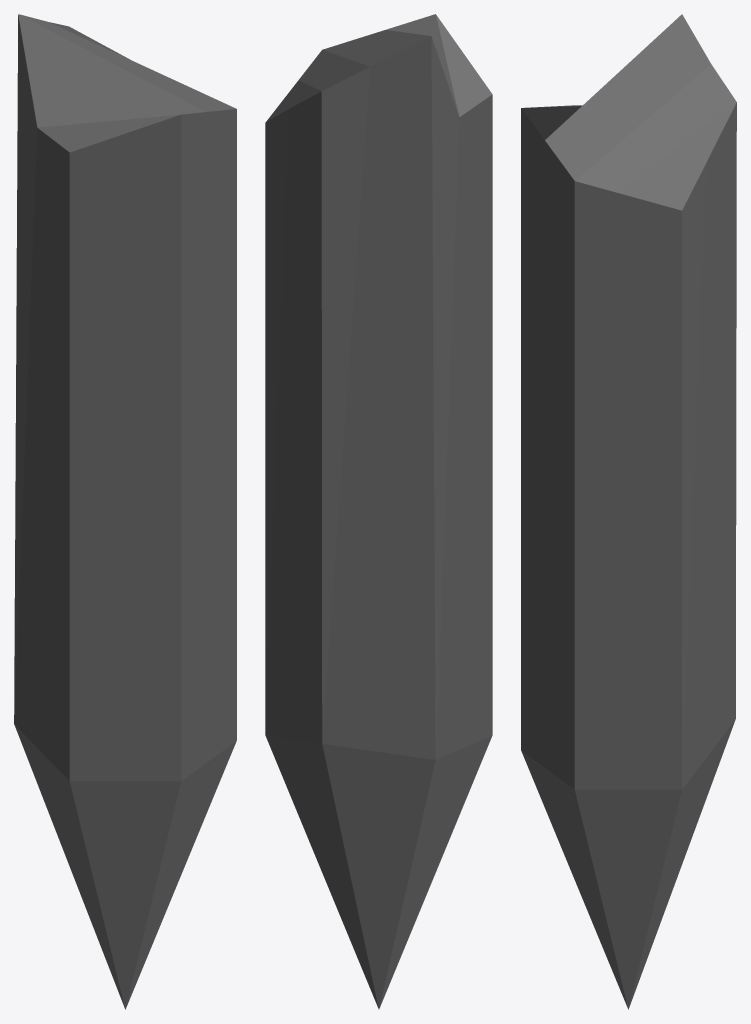
Rendered from nail_3_down.FBX.
The picture shows the model from 3 angles, left to right: view 1: azimuth 30°, elevation 25°; view 2: azimuth 150°, elevation 25°; view 3: azimuth 270°, elevation 25°; orthographic projection. The views are drawn at different scales.
Parts seen in each view (by area): view 1: nail_low_poly_3_d; view 2: nail_low_poly_3_d; view 3: nail_low_poly_3_d.
Part boxes in pixels (bbox=[...]): nail_low_poly_3_d: bbox=[14, 14, 236, 1009]; nail_low_poly_3_d: bbox=[265, 14, 492, 1009]; nail_low_poly_3_d: bbox=[521, 14, 736, 1009].
Size of the model in its own units: 5.11 by 29.09 by 5.93.
